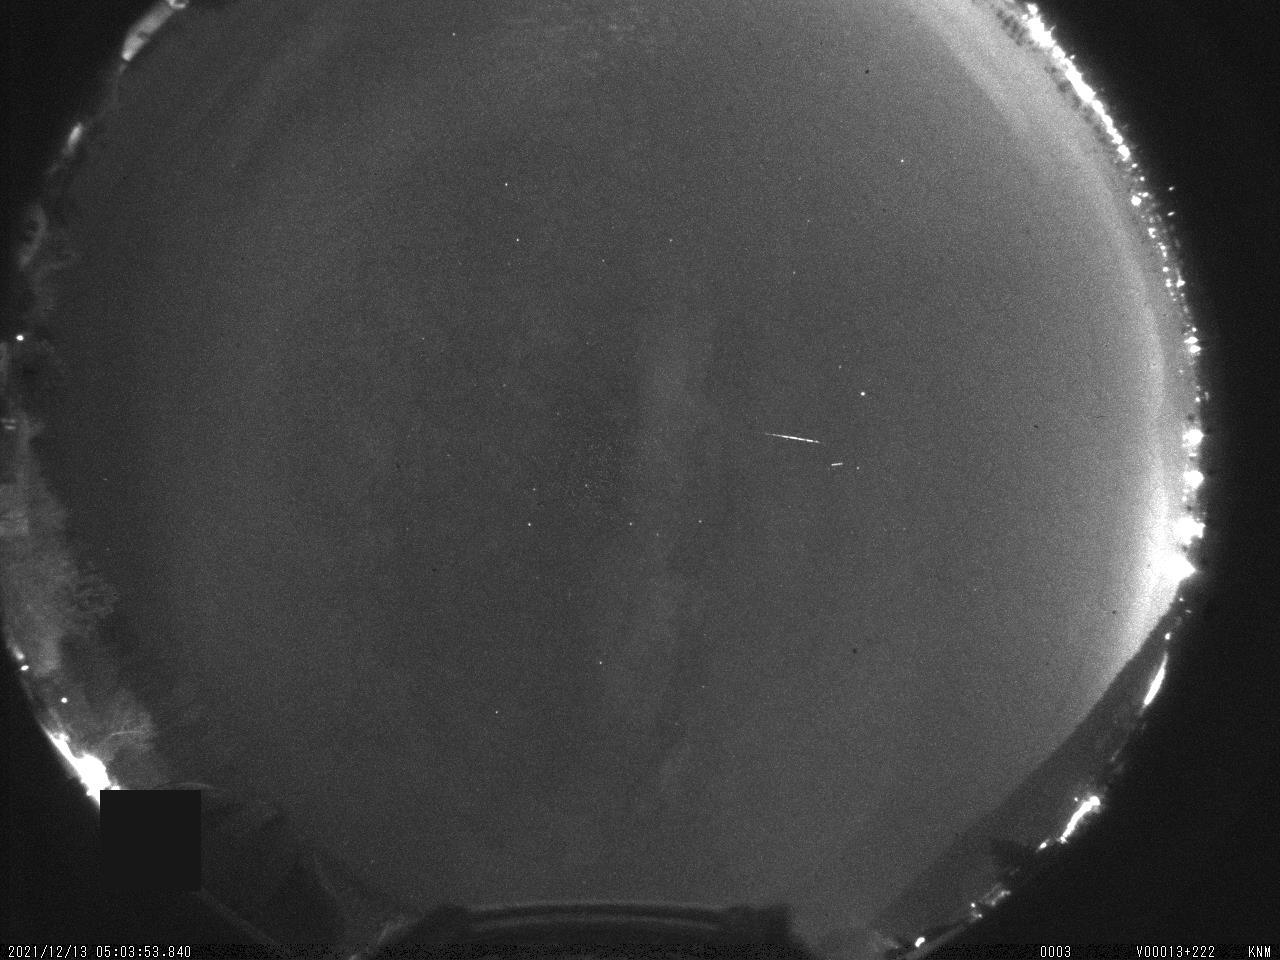meteor: (740, 404, 844, 470)
